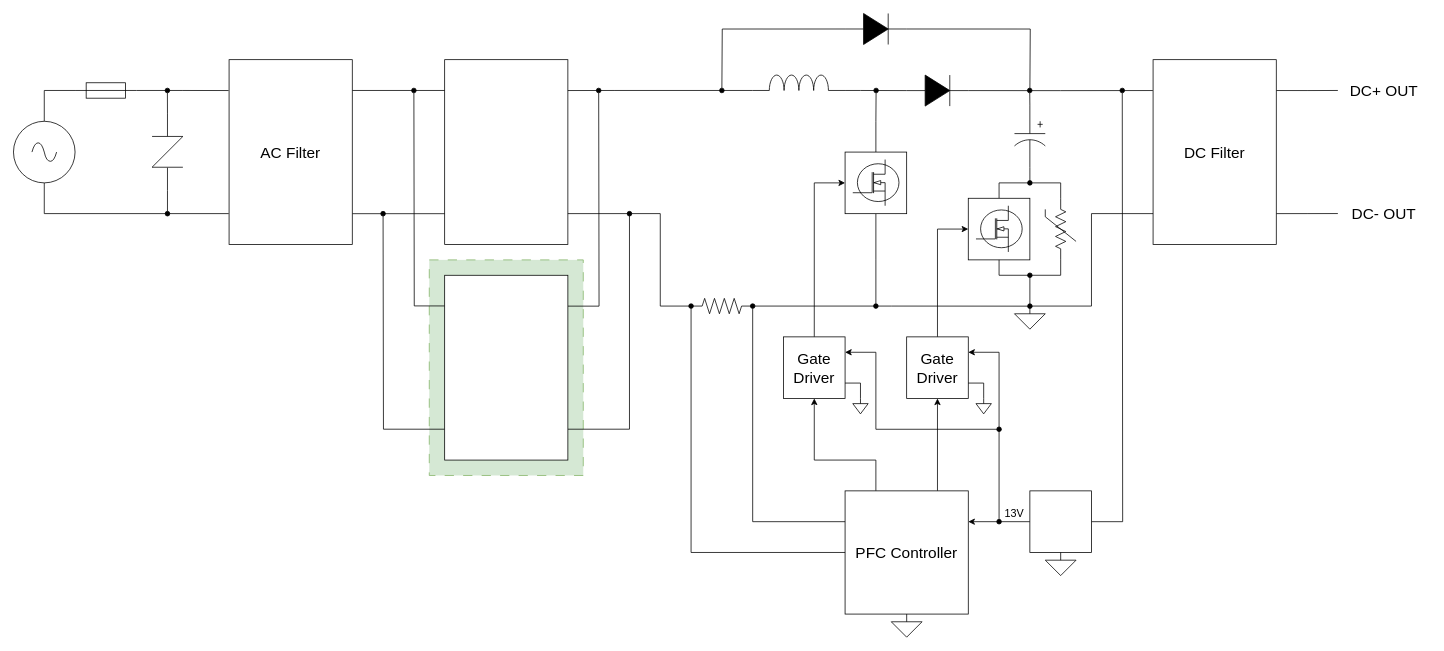
Image size: 1444x651. Some labels were removed from this diagram. The shapes that lost their labels are listed below. From the top down, each one's box as (x1, y1, x2, y2) in pixels, then its label:
(444, 59, 568, 244): Diode Bridge
(444, 275, 568, 460): Active Bridge
(1029, 490, 1091, 552): DCDC
